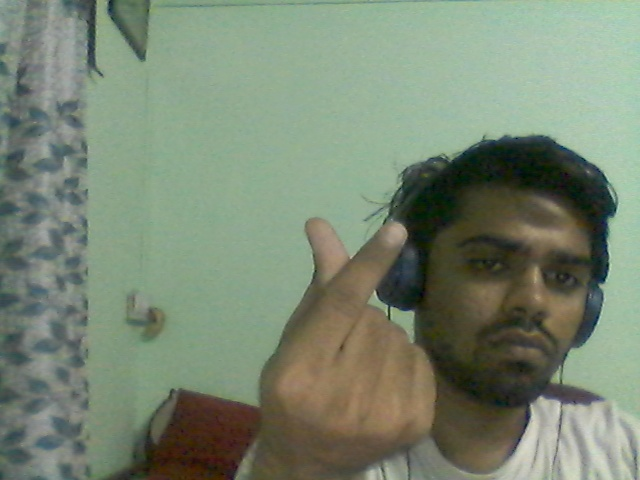I Love You: (225, 192, 452, 480)
